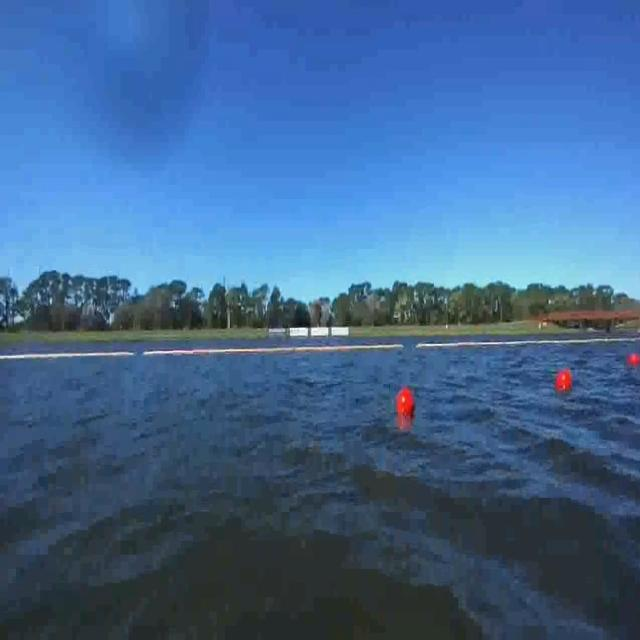red-buoy: (557, 368, 574, 394), (399, 391, 415, 418), (628, 353, 640, 367)
